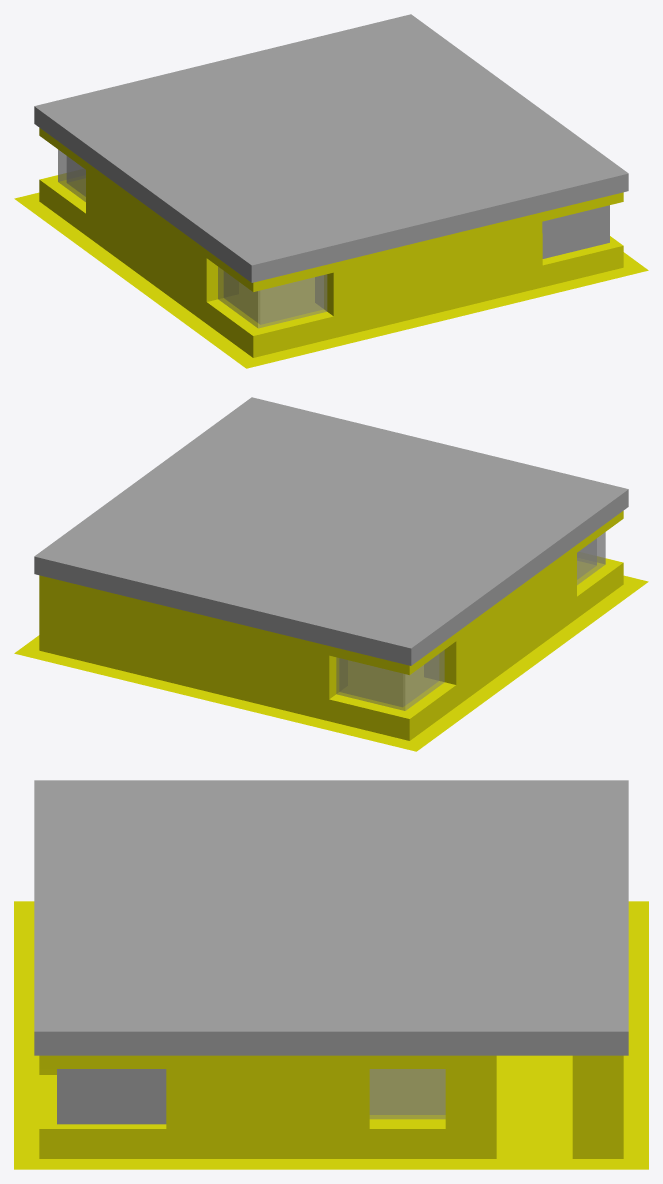
The model's file is HouseUvNEW.fbx.
The picture shows the model from 3 angles, top to bottom: view 1: azimuth 30°, elevation 25°; view 2: azimuth 150°, elevation 25°; view 3: azimuth 270°, elevation 25°; orthographic projection. The views are drawn at different scales.
Visible parts, largest first — view 1: pCube1, pPlane1, pasted__pasted__pCube4; view 2: pCube1, pPlane1, pasted__pasted__pCube4; view 3: pCube1, pPlane1, pasted__pasted__pCube4.
Part boxes in pixels (x1,y1,x2,y2): pCube1: [34, 14, 628, 282]; pPlane1: [14, 128, 648, 368]; pasted__pasted__pCube4: [58, 149, 609, 328]; pCube1: [34, 397, 628, 665]; pPlane1: [14, 511, 648, 751]; pasted__pasted__pCube4: [336, 532, 605, 710]; pCube1: [34, 780, 628, 1055]; pPlane1: [14, 901, 648, 1169]; pasted__pasted__pCube4: [57, 1069, 445, 1124].
Size of the model in its own units: 24 by 5.4 by 24.
